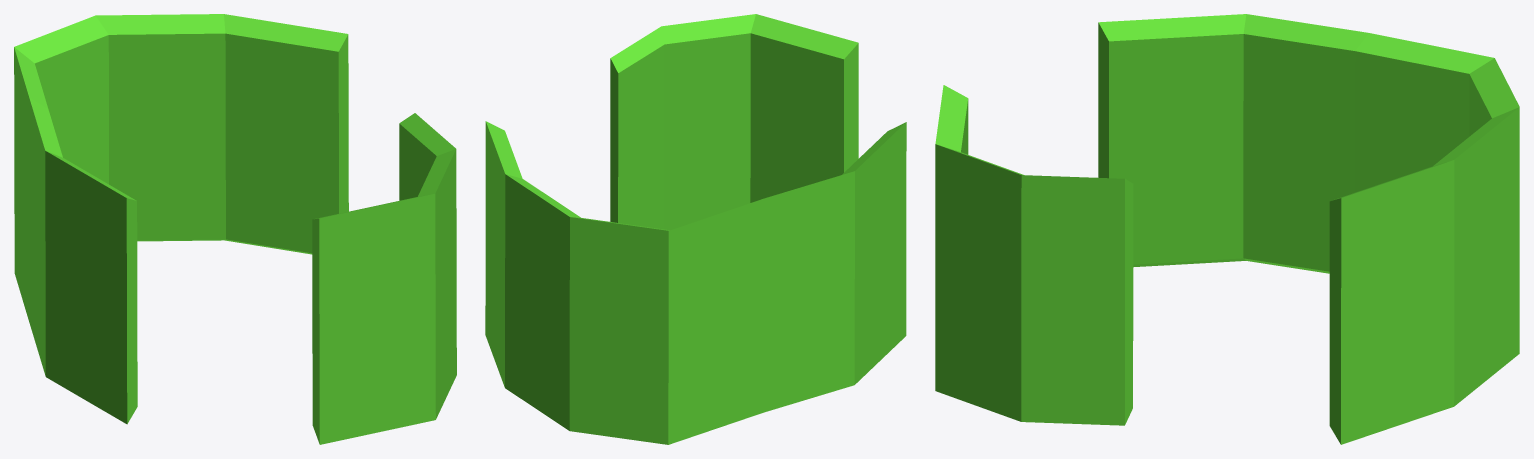
The model's file is InvWall7_1.fbx.
3 renders of one model, left to right at view 1: azimuth 30°, elevation 25°; view 2: azimuth 150°, elevation 25°; view 3: azimuth 270°, elevation 25°, orthographic. The views are drawn at different scales.
Parts seen in each view (by area): view 1: Island 7.002; view 2: Island 7.002; view 3: Island 7.002.
Boxes of the visible parts, x1,y1,x2,y2 form: Island 7.002: (14,14,456,444); Island 7.002: (485,14,906,444); Island 7.002: (935,14,1519,444).
Bounding box in the file's own units: 1764 × 1116 × 2363.
